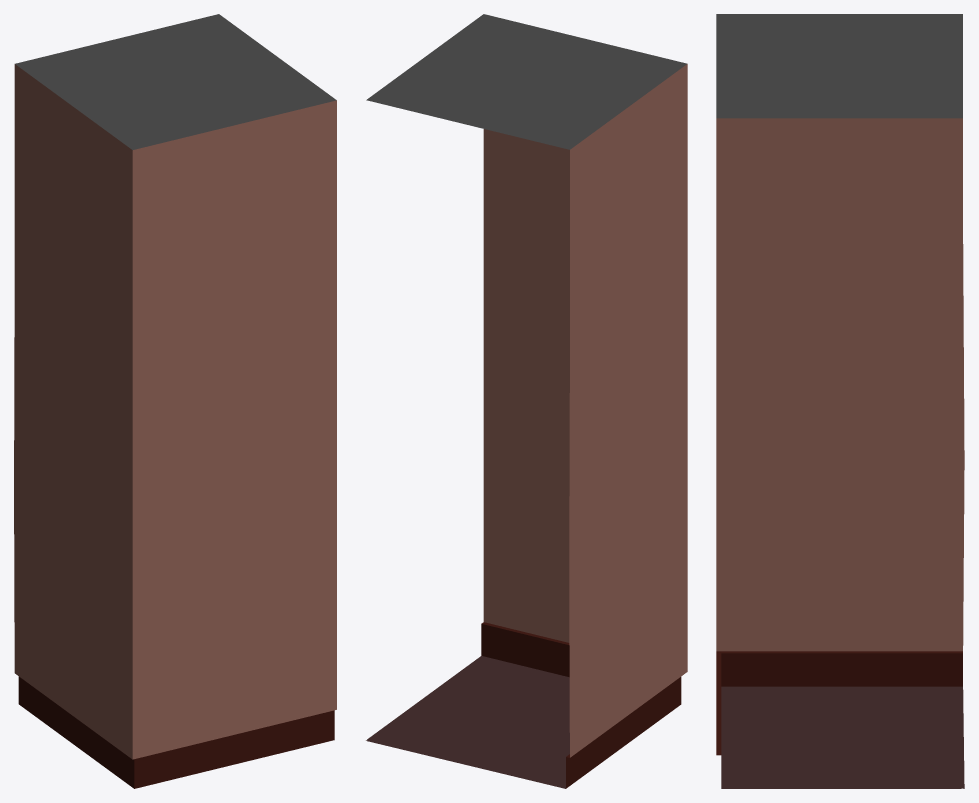
The model's file is Tile_08.fbx.
3 renders of one model, left to right at view 1: azimuth 30°, elevation 25°; view 2: azimuth 150°, elevation 25°; view 3: azimuth 270°, elevation 25°, orthographic. The views are drawn at different scales.
Parts seen in each view (by area): view 1: Tile_08; view 2: Tile_08; view 3: Tile_08.
Part boxes in pixels (x1,y1,x2,y2): Tile_08: (14,14,336,788); Tile_08: (366,14,687,788); Tile_08: (716,14,964,788).
Bounding box in the file's own units: 100 × 300 × 101.
